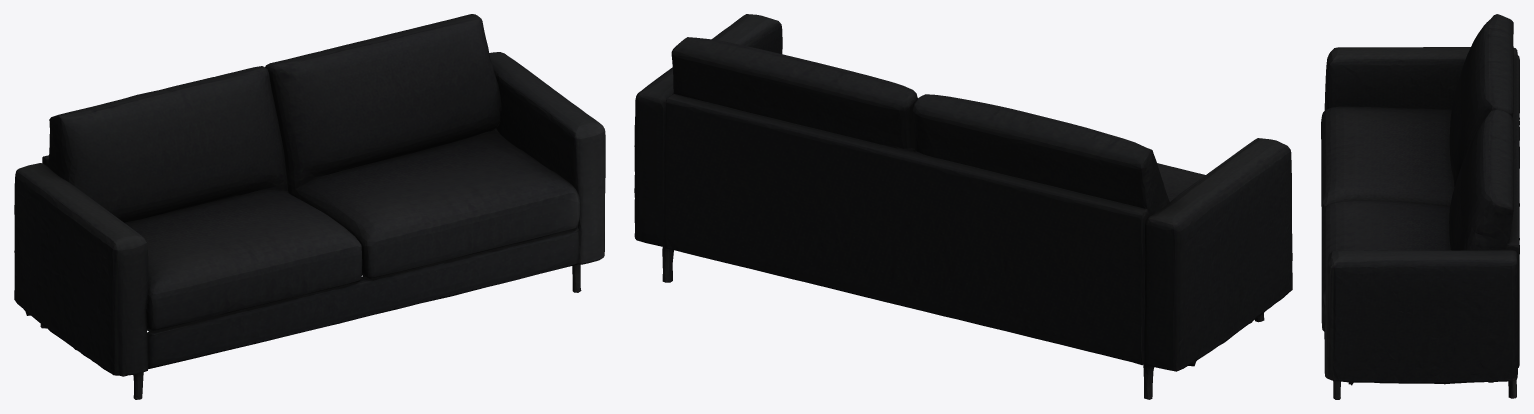
The picture shows the model from 3 angles, left to right: view 1: azimuth 30°, elevation 25°; view 2: azimuth 150°, elevation 25°; view 3: azimuth 270°, elevation 25°; orthographic projection. The views are drawn at different scales.
Parts seen in each view (by area): view 1: world; view 2: world; view 3: world.
Boxes of the visible parts, bbox=[...] form: world: bbox=[14, 14, 605, 399]; world: bbox=[634, 14, 1292, 399]; world: bbox=[1321, 14, 1519, 399].
Bounding box in the file's own units: 0.9907 × 0.4358 × 0.381.
Materials: 1 (1 with a texture image).
